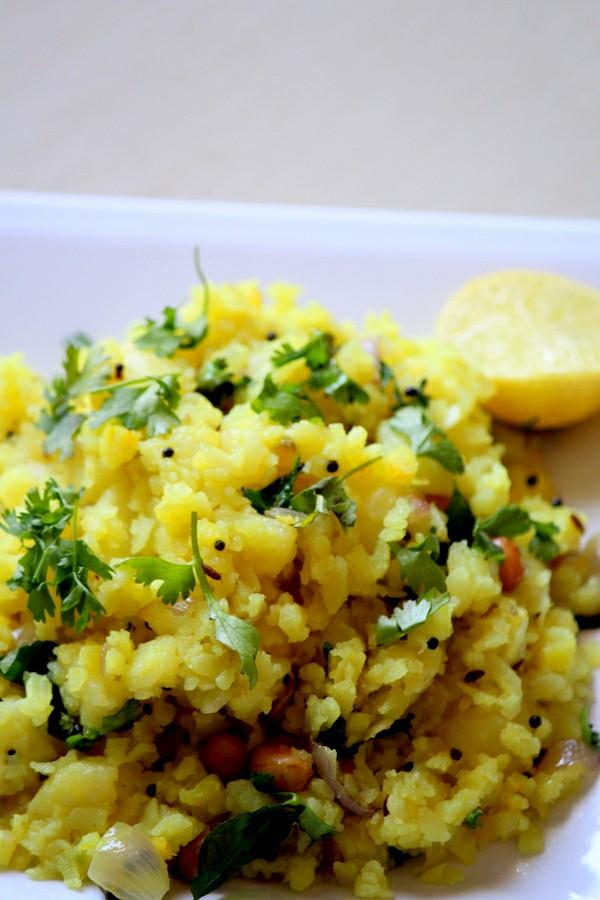Poha: (0, 268, 600, 900)
